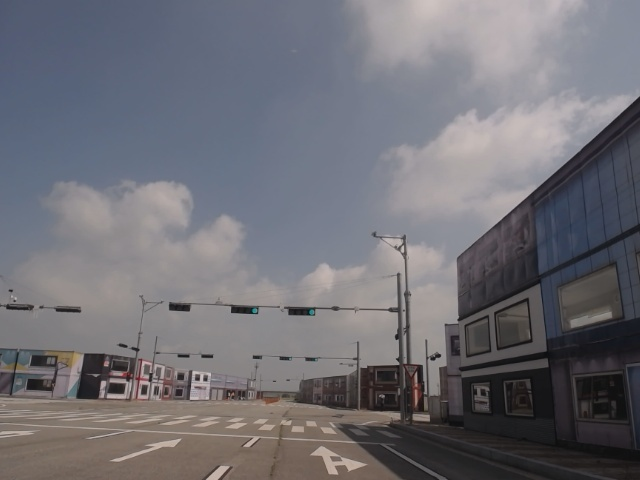straight_green_4: (230, 304, 259, 315), (286, 307, 317, 316)
